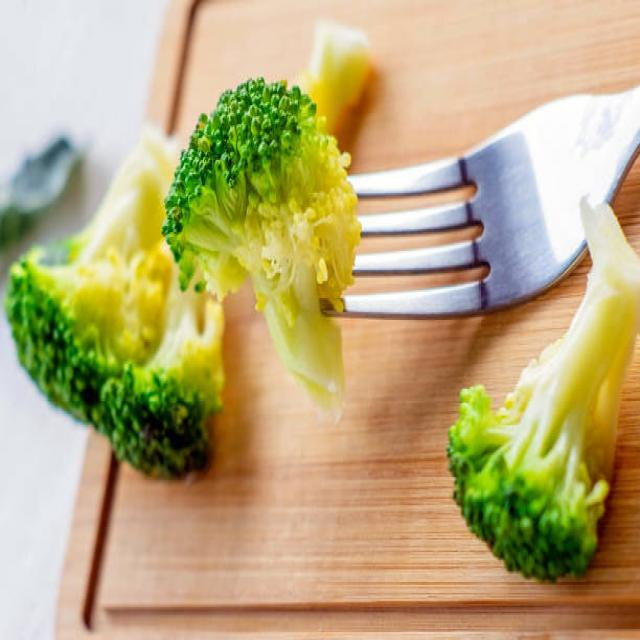Broccoli head: (1, 176, 196, 520), (193, 71, 366, 438), (439, 284, 607, 636)
